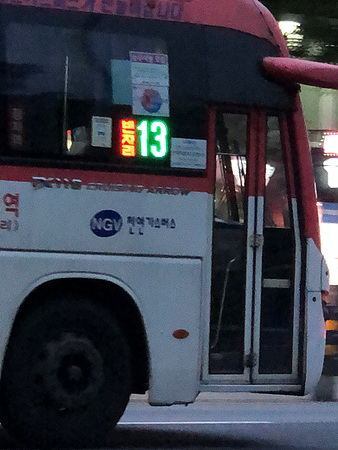entrance: (208, 110, 308, 396)
